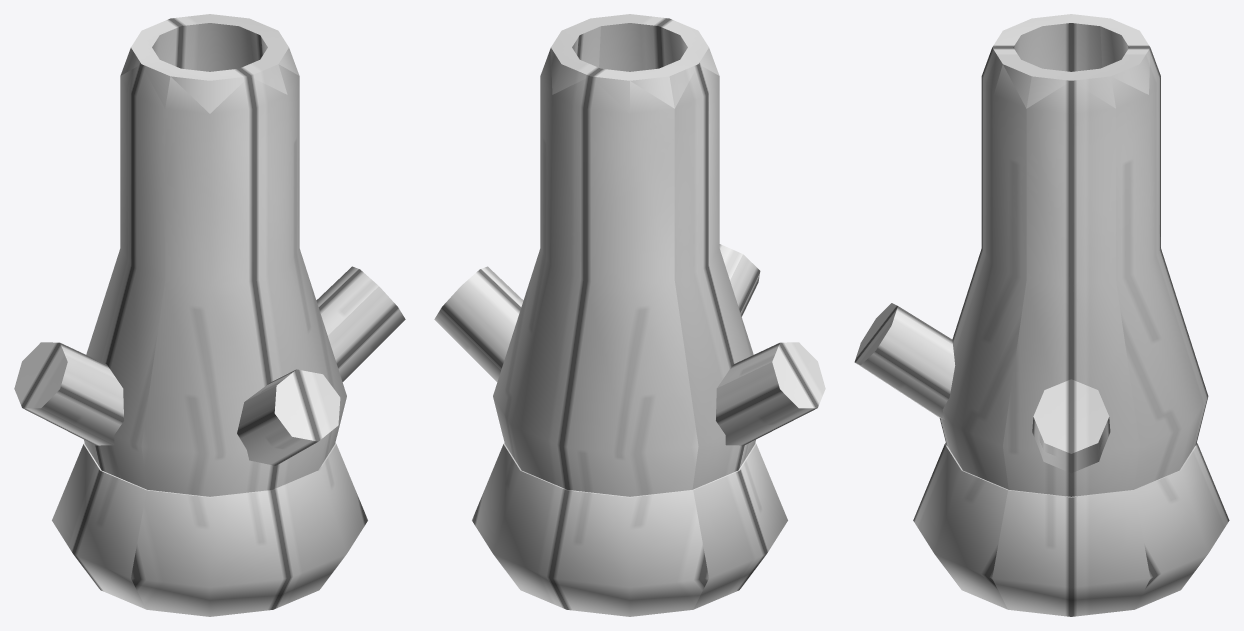
File: burnbong.obj
The picture shows the model from 3 angles, left to right: view 1: azimuth 30°, elevation 25°; view 2: azimuth 150°, elevation 25°; view 3: azimuth 270°, elevation 25°; orthographic projection.
Visible parts, largest first — view 1: source_component_001, source_component_000, source_component_003, source_component_004, source_component_002; view 2: source_component_001, source_component_000, source_component_003, source_component_002, source_component_004; view 3: source_component_001, source_component_000, source_component_004, source_component_002.
Part boxes in pixels (x1=…): source_component_001: x1=84, y1=14, x2=346, y2=496; source_component_000: x1=52, y1=442, x2=367, y2=616; source_component_003: x1=14, y1=342, x2=123, y2=445; source_component_004: x1=237, y1=369, x2=340, y2=465; source_component_002: x1=316, y1=266, x2=405, y2=381; source_component_001: x1=493, y1=14, x2=755, y2=496; source_component_000: x1=472, y1=442, x2=787, y2=616; source_component_003: x1=716, y1=342, x2=825, y2=445; source_component_002: x1=434, y1=266, x2=523, y2=381; source_component_004: x1=719, y1=244, x2=760, y2=316; source_component_001: x1=939, y1=14, x2=1208, y2=496; source_component_000: x1=913, y1=442, x2=1229, y2=616; source_component_004: x1=854, y1=303, x2=955, y2=419; source_component_002: x1=1032, y1=379, x2=1110, y2=473.
Size of the model in its own units: 0.8226 by 1.08 by 0.7113.
